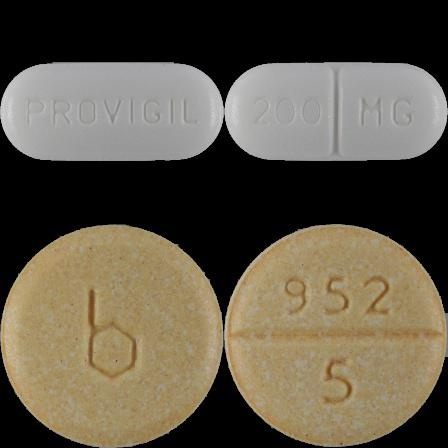35356-372: (0, 0, 224, 224)
